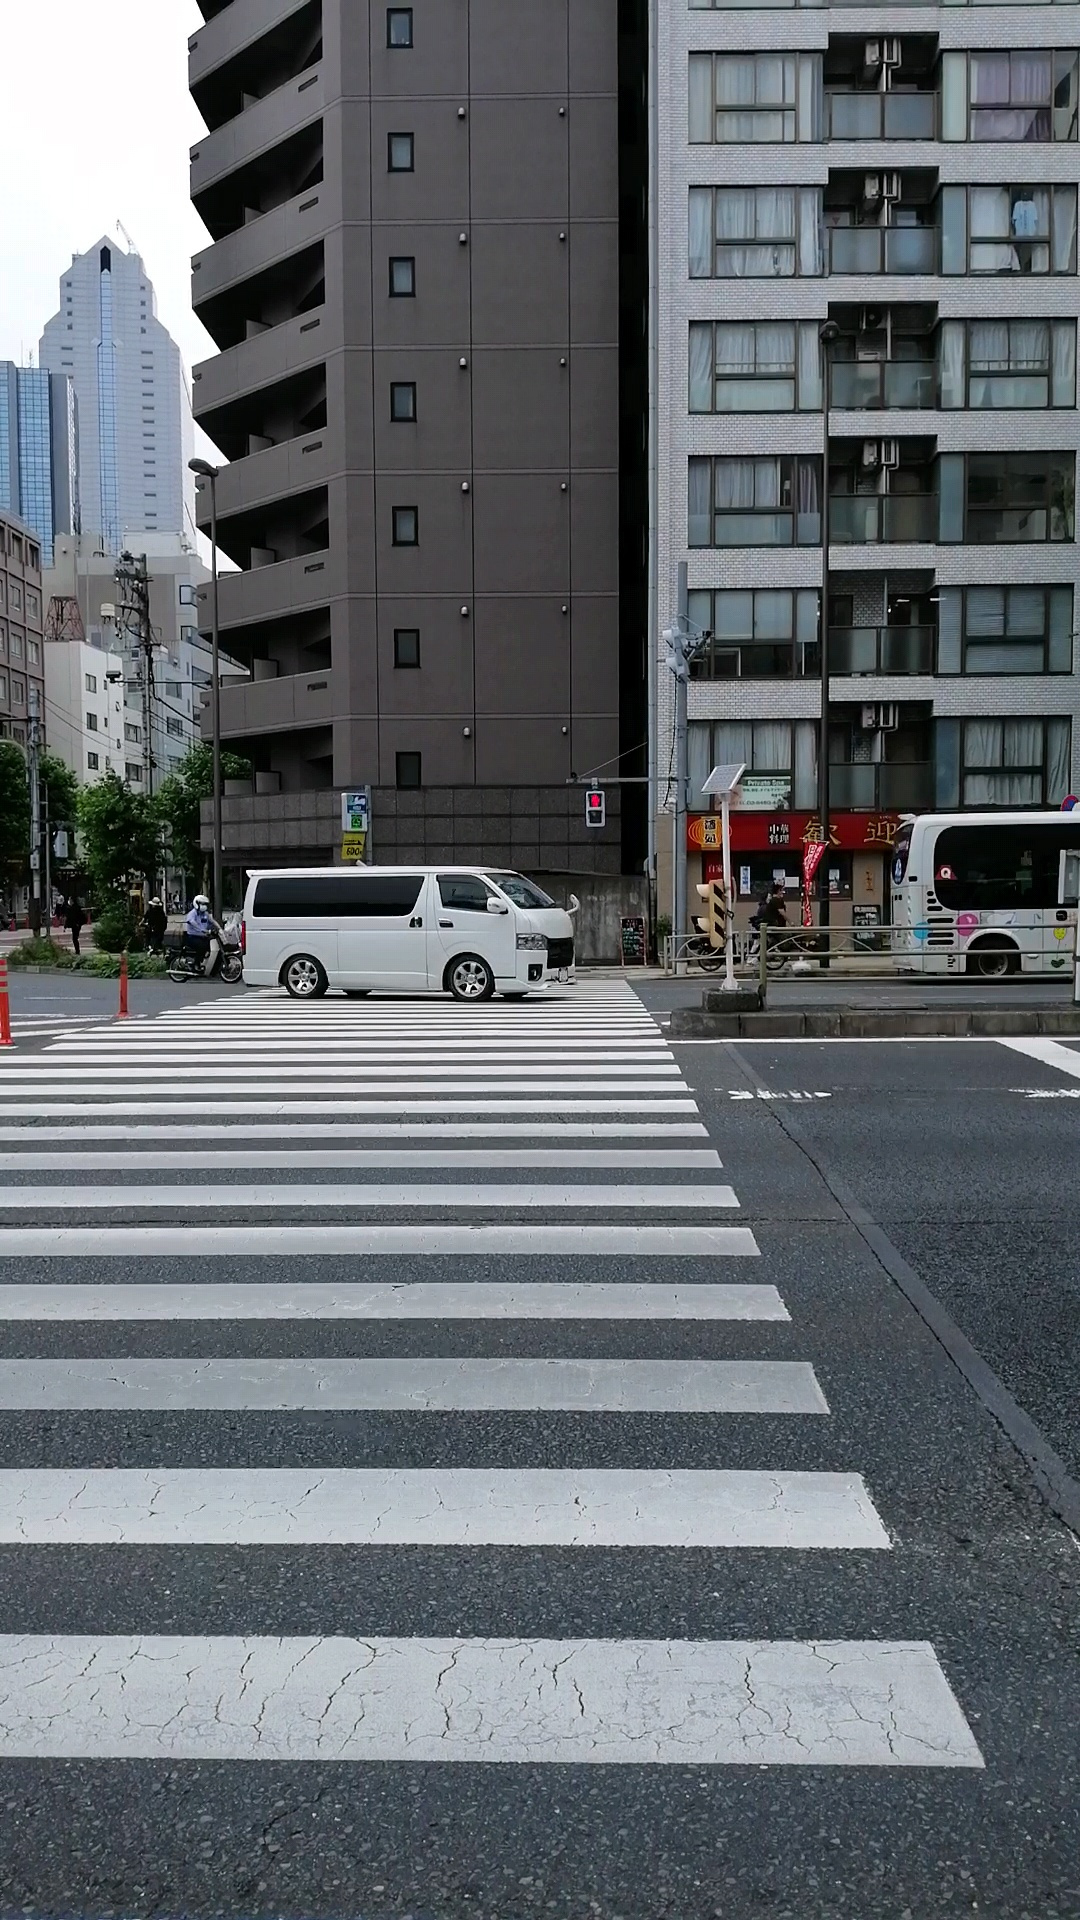red: (584, 789, 605, 828)
